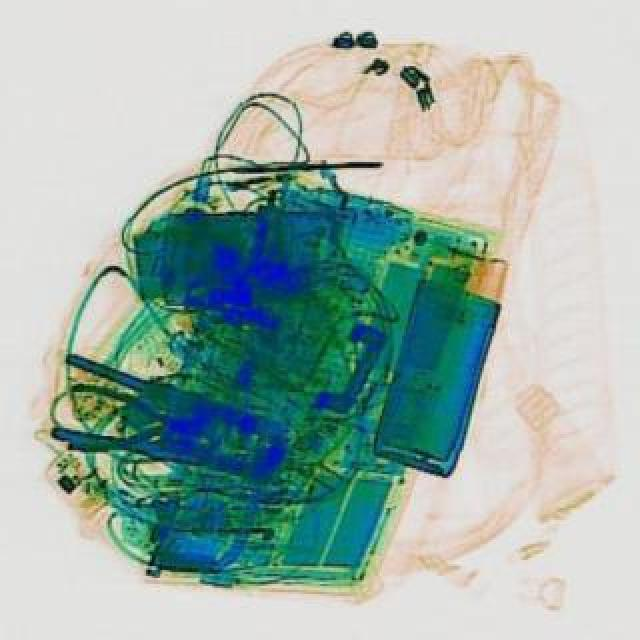wrench: (42, 348, 302, 496), (50, 376, 198, 462)
